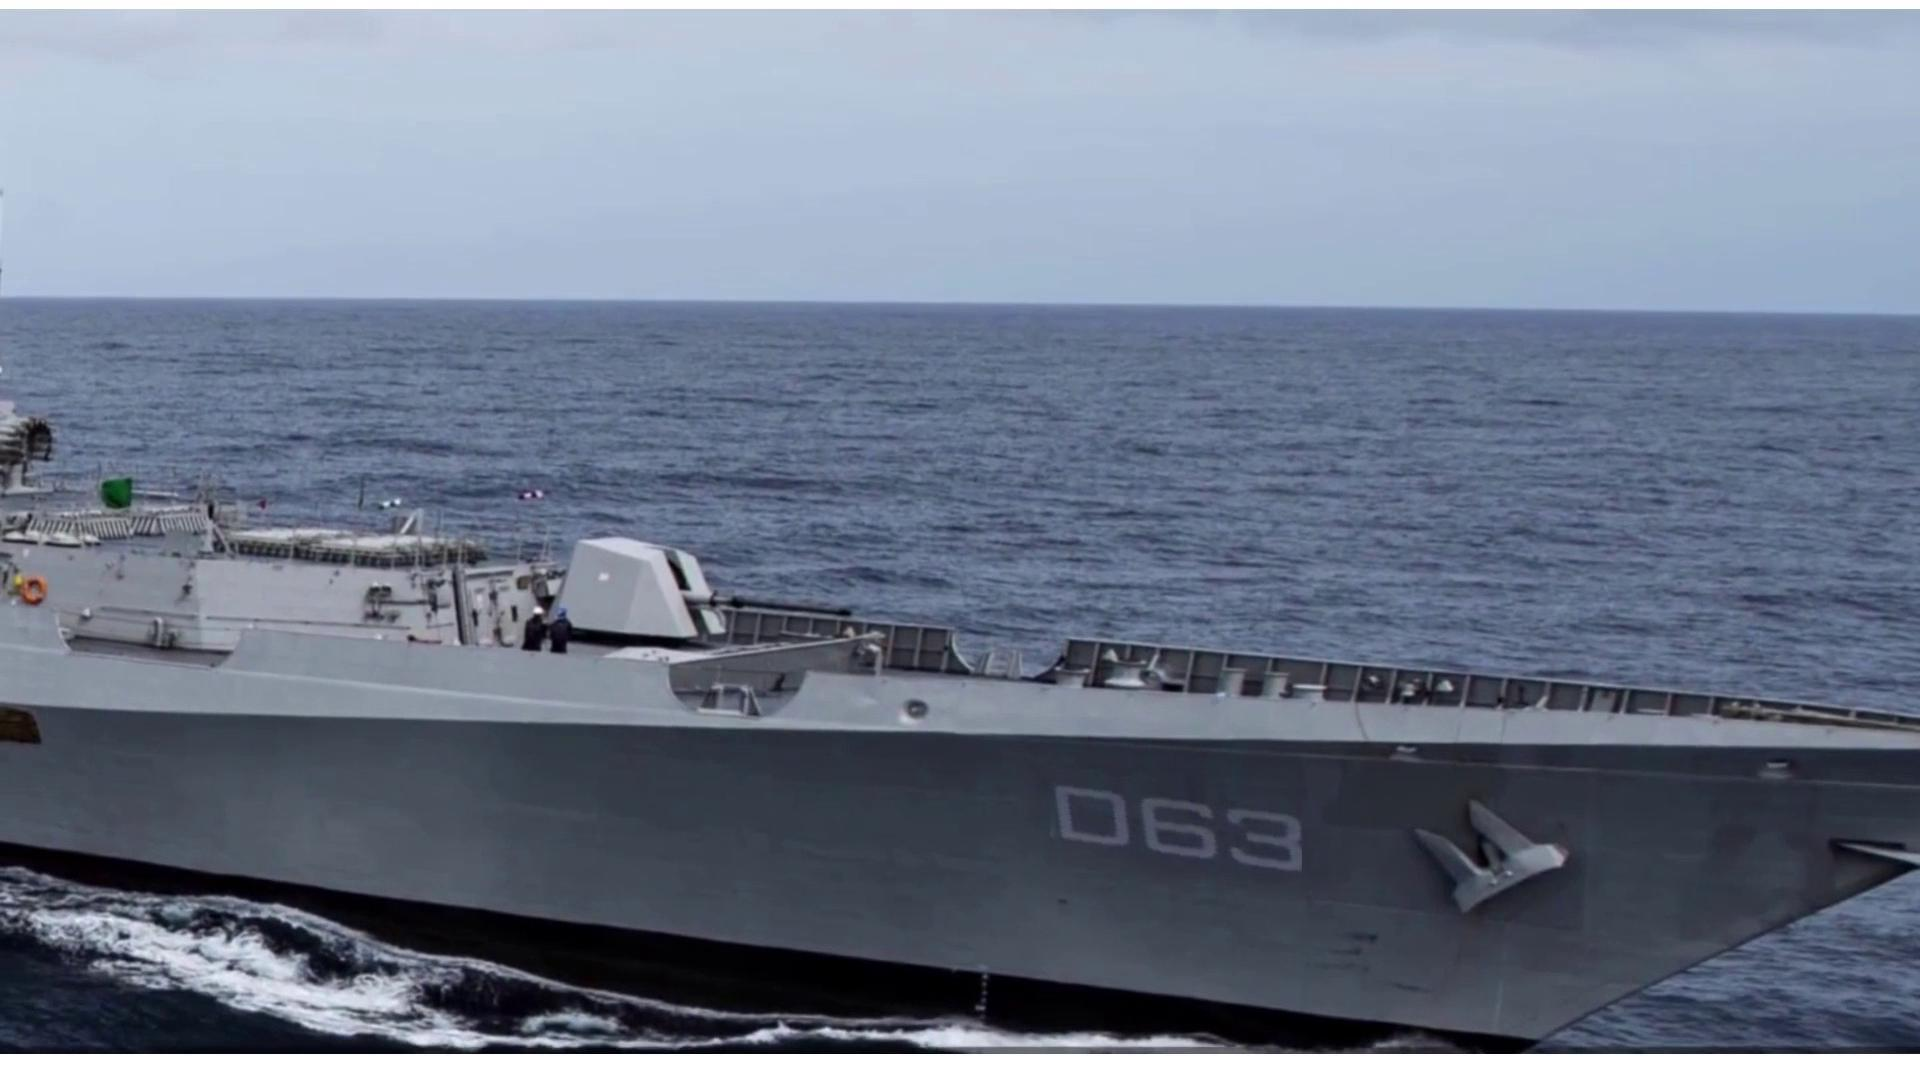OCR: (1043, 775, 1303, 873)
